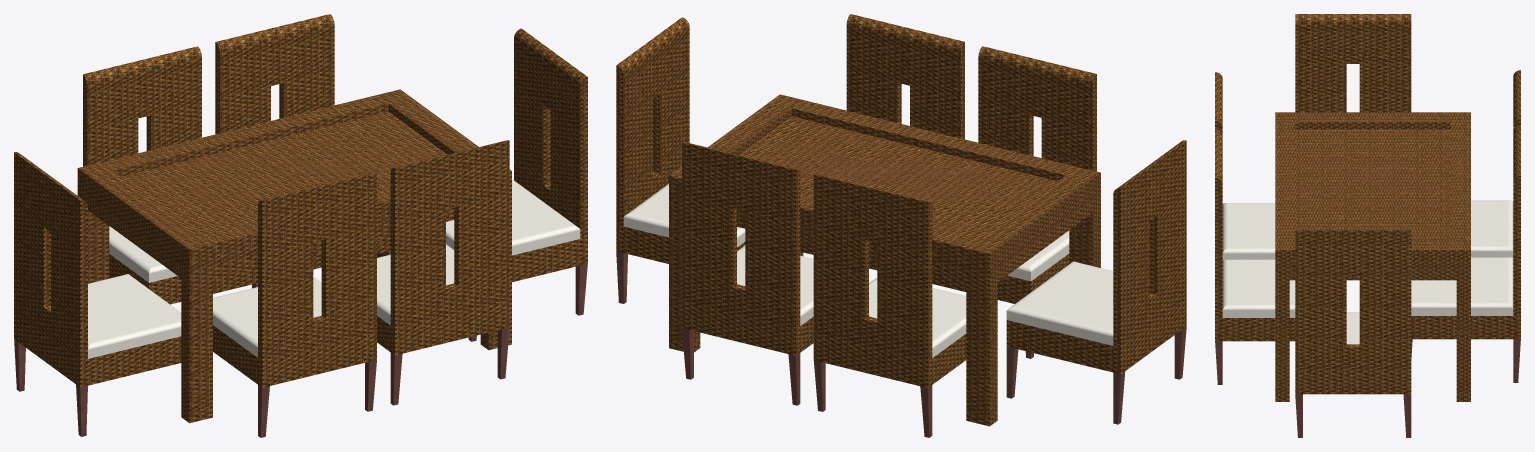
The model's file is dining furniture 8.dae.
3 views of the same model, side by side, from view 1: azimuth 30°, elevation 25°; view 2: azimuth 150°, elevation 25°; view 3: azimuth 270°, elevation 25° (orthographic). The views are drawn at different scales.
Parts seen in each view (by area): view 1: group_0 (×2), group_7, group_13, group_19 (×2), group_25 (×2), group_1, group_31, group_21, group_27, group_9, group_3, group_15 (+3 smaller); view 2: group_0 (×2), group_1, group_31, group_19 (×2), group_25 (×2), group_7, group_13, group_21, group_3, group_27, group_33, group_9 (+3 smaller); view 3: group_0 (×2), group_25, group_19, group_33, group_31, group_15, group_13, group_9, group_3, group_27, group_7, group_1 (+3 smaller).
Boxes of the visible parts, x1,y1,x2,y2 form: group_0 (×2): (77,89,511,423); group_7: (213,172,376,387); group_13: (377,140,509,355); group_19 (×2): (14,152,181,387); group_25 (×2): (512,28,587,281); group_1: (83,46,257,304); group_31: (215,14,390,269); group_21: (88,274,181,358); group_27: (446,180,580,255); group_9: (213,276,321,357); group_3: (109,226,177,282); group_15: (377,244,454,325); group_0 (×2): (669,94,1100,426); group_1: (813,174,966,387); group_31: (682,141,813,355); group_19 (×2): (1006,140,1186,374); group_25 (×2): (616,17,745,263); group_7: (932,46,1096,303); group_13: (800,14,964,270); group_21: (1006,261,1113,345); group_3: (869,277,966,357); group_27: (623,184,745,247); group_33: (737,245,813,325); group_9: (1007,230,1069,281); group_0 (×2): (1275,112,1470,401); group_25: (1295,230,1411,394); group_19: (1295,14,1411,112); group_33: (1411,257,1513,315); group_31: (1411,126,1520,339); group_15: (1222,259,1295,317); group_13: (1215,129,1295,341); group_9: (1222,203,1275,260); group_3: (1471,200,1513,258); group_27: (1346,312,1359,344); group_7: (1215,72,1222,133); group_1: (1513,70,1520,131).
Bounding box in the file's own units: 78.35 × 46.72 × 35.12.
6 materials, 6 textured.
